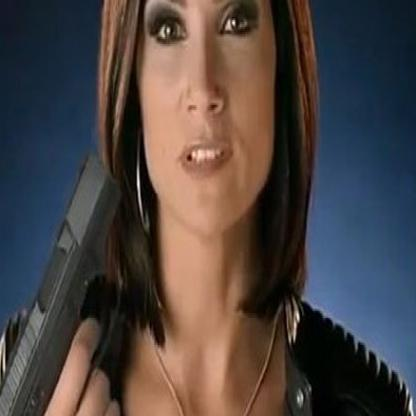gun: (0, 144, 129, 414)
